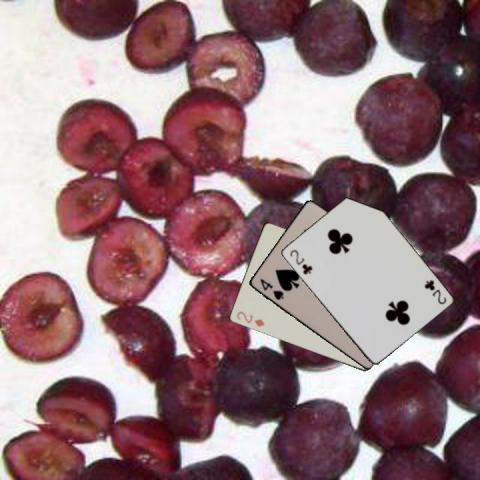2c: (287, 247, 313, 276), (421, 277, 447, 306)
2d: (233, 309, 266, 328)
4s: (256, 276, 284, 302)
